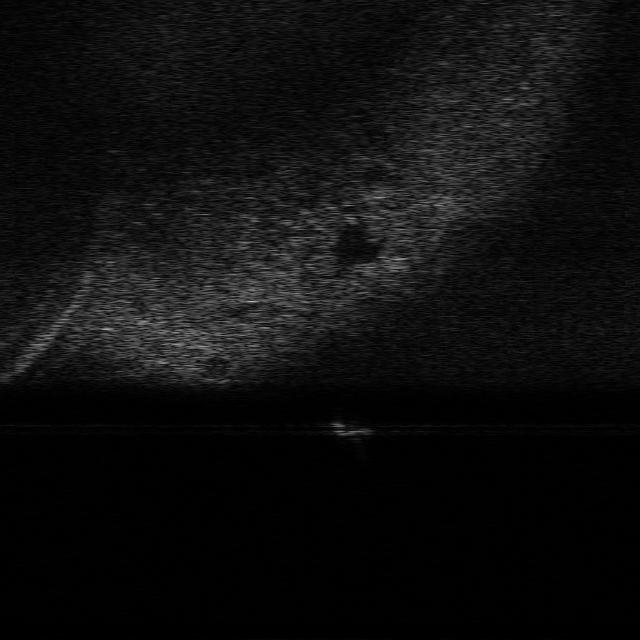cube: (327, 416, 378, 438)
